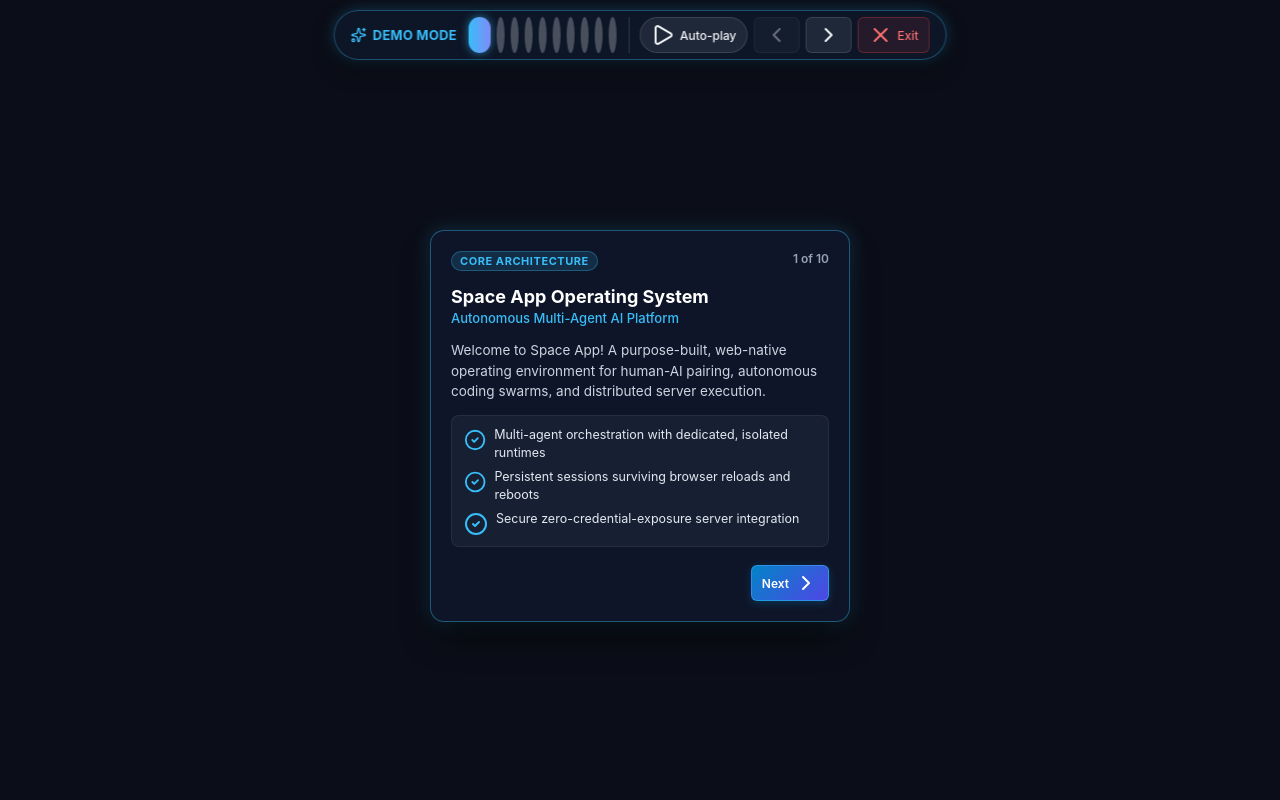
Test: DemoModeOverlay › jumps directly to a step when clicking its dot
Click the button named "Jump to Step 7: Admin Suite & System Telemetry": (571, 35) [567,17,575,53]
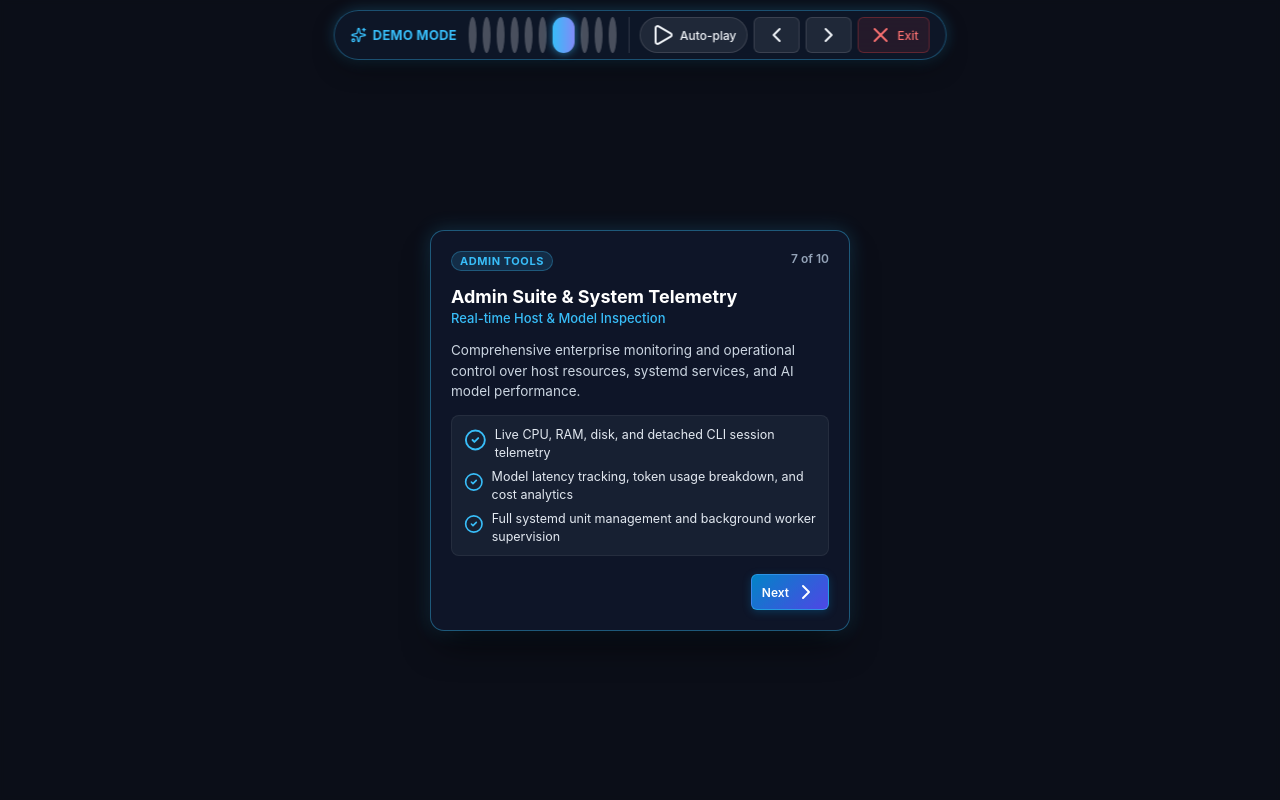
Expected: the text "7 of 10" is shown, [791,251,829,266]
Expected: the heading "Admin Suite & System Telemetry" is shown, [451,286,737,307]
Expected: the text "Admin Tools" is shown, [451,251,553,271]
